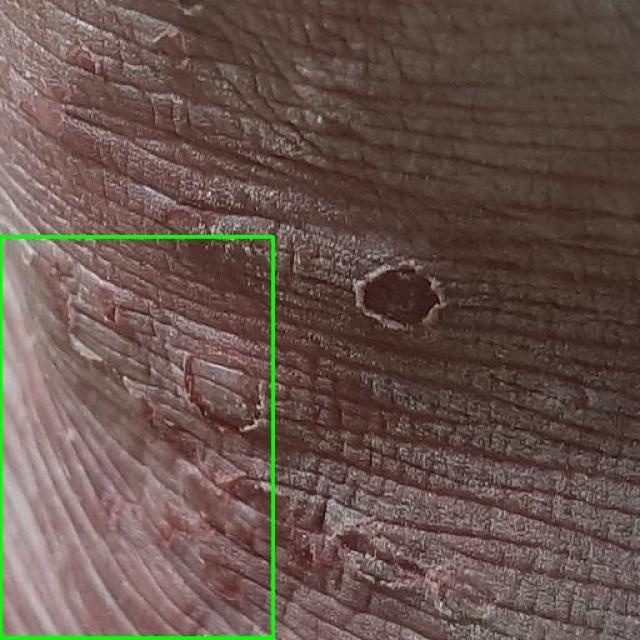Contact Dermatitis: (0, 238, 274, 639)
